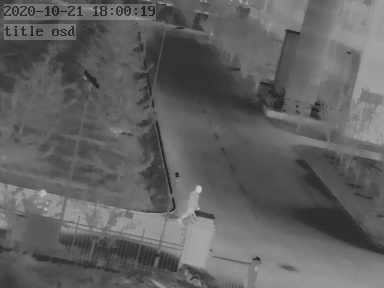person: (184, 183, 202, 221)
